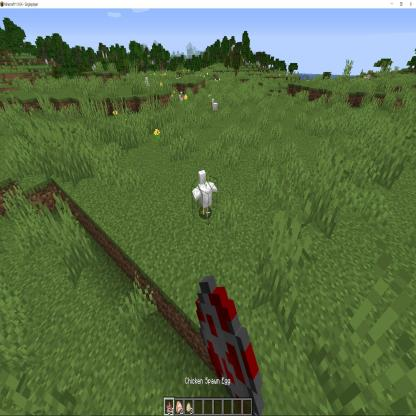minecraft-pigs: (193, 169, 217, 223), (210, 97, 220, 117), (142, 74, 151, 93), (178, 90, 184, 106)
